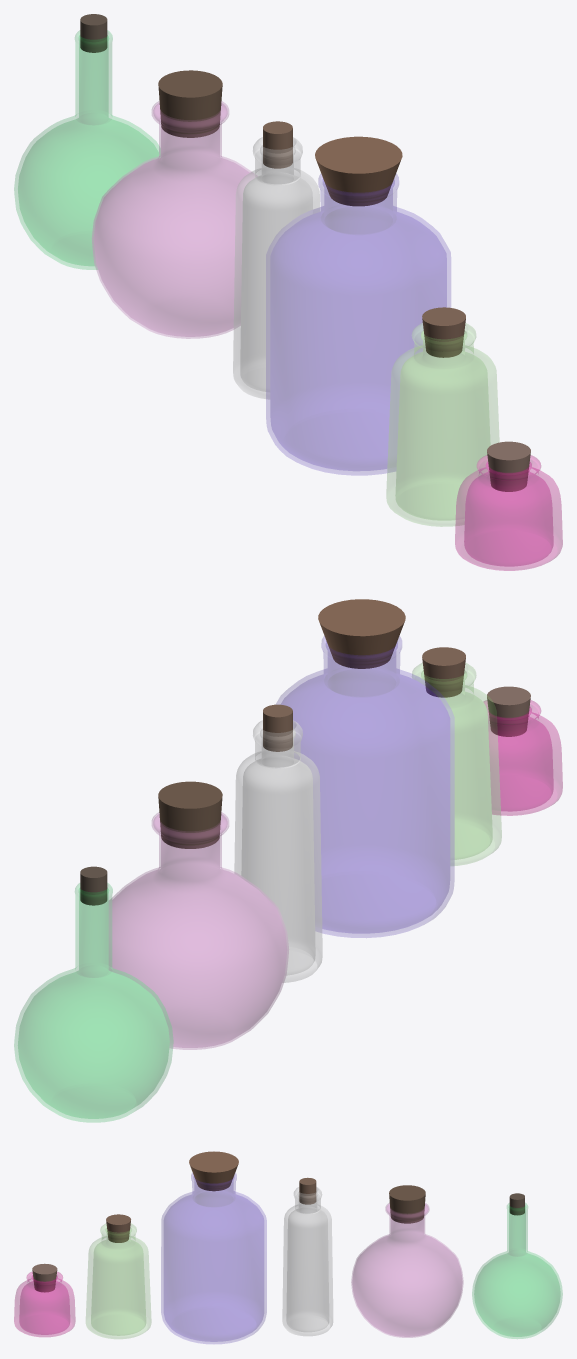
File: Butelki.fbx
3 renders of one model, top to bottom at view 1: azimuth 30°, elevation 25°; view 2: azimuth 150°, elevation 25°; view 3: azimuth 270°, elevation 25°, orthographic. The views are drawn at different scales.
Parts seen in each view (by area): view 1: Butelka1, Sphere, Circle.003, Sphere.002, Circle, Circle.004, Nakrętka1, Sphere.001, Circle.002, Circle.005, Circle.001, Sphere.003; view 2: Butelka1, Sphere, Sphere.002, Circle, Circle.003, Circle.004, Nakrętka1, Sphere.001, Circle.002, Circle.005, Circle.001, Sphere.003; view 3: Butelka1, Sphere, Sphere.002, Circle, Circle.003, Circle.004, Nakrętka1, Sphere.001, Circle.005, Circle.002, Circle.001, Sphere.003.
Part boxes in pixels (x1,y1,x2,y2): Butelka1: [266, 174, 450, 475]; Sphere: [92, 101, 257, 338]; Circle.003: [386, 323, 499, 526]; Sphere.002: [14, 30, 160, 269]; Circle: [233, 137, 319, 399]; Circle.004: [455, 455, 562, 570]; Nakrętka1: [315, 136, 402, 206]; Sphere.001: [158, 70, 222, 137]; Circle.002: [422, 307, 465, 357]; Circle.005: [487, 441, 530, 491]; Circle.001: [263, 121, 292, 168]; Sphere.003: [80, 14, 107, 52]; Butelka1: [276, 636, 454, 937]; Sphere: [109, 812, 288, 1049]; Sphere.002: [14, 883, 173, 1122]; Circle: [234, 720, 322, 982]; Circle.003: [412, 663, 501, 865]; Circle.004: [484, 700, 562, 815]; Nakrętka1: [318, 599, 405, 668]; Sphere.001: [158, 781, 222, 848]; Circle.002: [422, 647, 465, 697]; Circle.005: [487, 686, 530, 736]; Circle.001: [263, 704, 292, 751]; Sphere.003: [80, 866, 107, 905]; Butelka1: [161, 1173, 266, 1343]; Sphere: [351, 1203, 463, 1337]; Sphere.002: [472, 1203, 562, 1338]; Circle: [282, 1187, 332, 1335]; Circle.003: [86, 1224, 151, 1338]; Circle.004: [14, 1271, 75, 1336]; Nakrętka1: [189, 1151, 238, 1191]; Sphere.001: [389, 1185, 425, 1223]; Circle.005: [32, 1263, 57, 1292]; Circle.002: [106, 1214, 130, 1242]; Circle.001: [299, 1177, 316, 1204]; Sphere.003: [509, 1193, 524, 1215].
Size of the model in its own units: 0.2552 by 0.4155 by 1.24.
